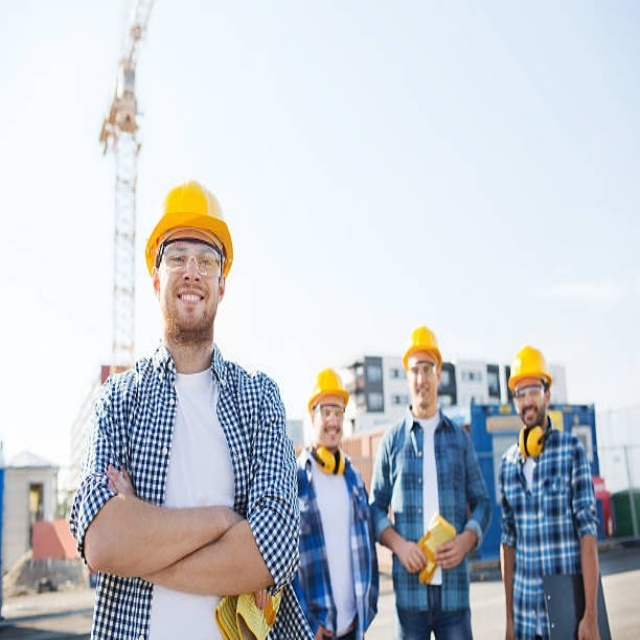Gafas: (158, 249, 224, 278), (512, 383, 547, 400), (314, 404, 346, 419), (408, 361, 439, 375)
Sin_guantes: (394, 536, 426, 571), (432, 536, 465, 569), (574, 602, 603, 637)
Sin_mascara: (172, 284, 212, 326), (323, 422, 343, 447), (521, 403, 539, 420), (415, 384, 431, 403)
